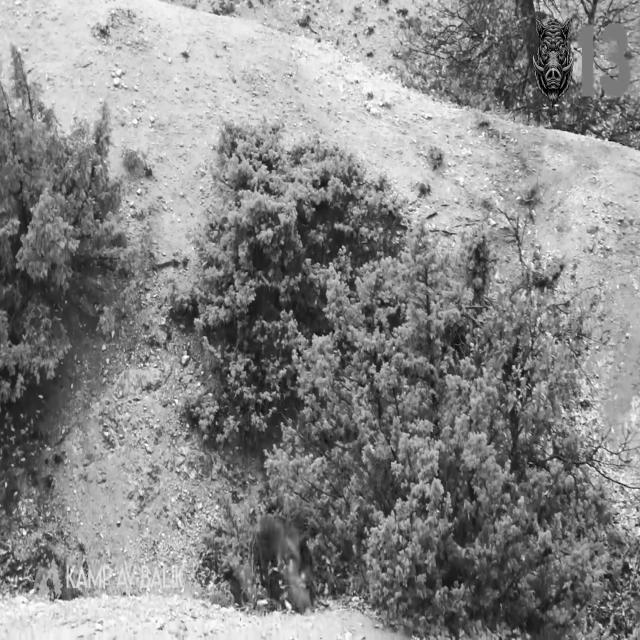boar: (257, 513, 311, 612)
